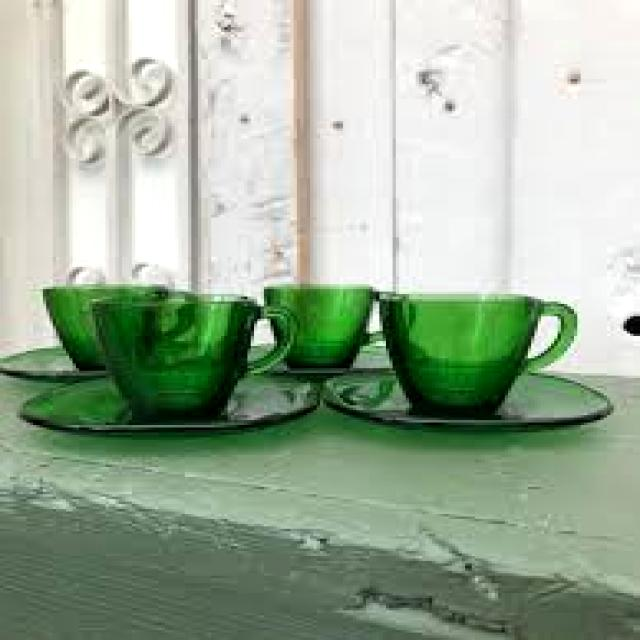Glass: (92, 290, 296, 416), (381, 288, 579, 412), (27, 362, 321, 435), (318, 364, 616, 435), (258, 281, 414, 370)
